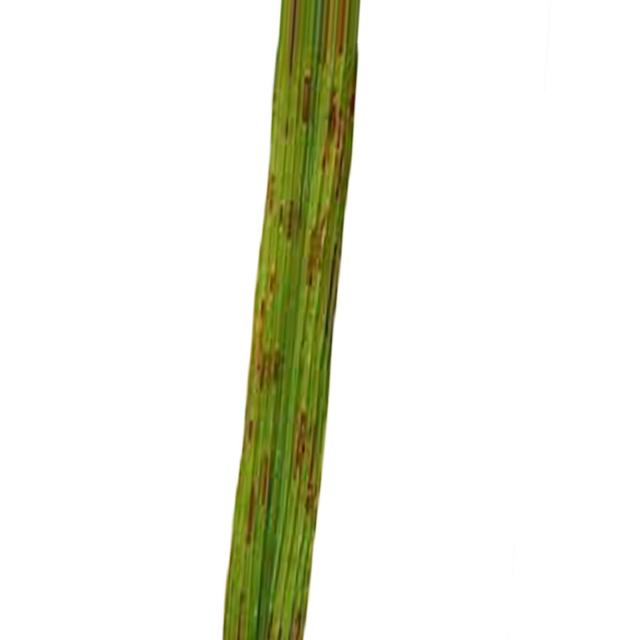Brown_Spot: (249, 340, 284, 391), (278, 0, 301, 71), (291, 412, 314, 477), (272, 200, 302, 238), (310, 222, 324, 294), (298, 71, 314, 122), (258, 259, 278, 293), (329, 99, 346, 139), (330, 255, 340, 321), (234, 590, 246, 640), (248, 491, 258, 538), (266, 161, 275, 209), (289, 615, 306, 639), (265, 458, 270, 499), (245, 419, 256, 437), (254, 306, 268, 318), (318, 492, 320, 498)
